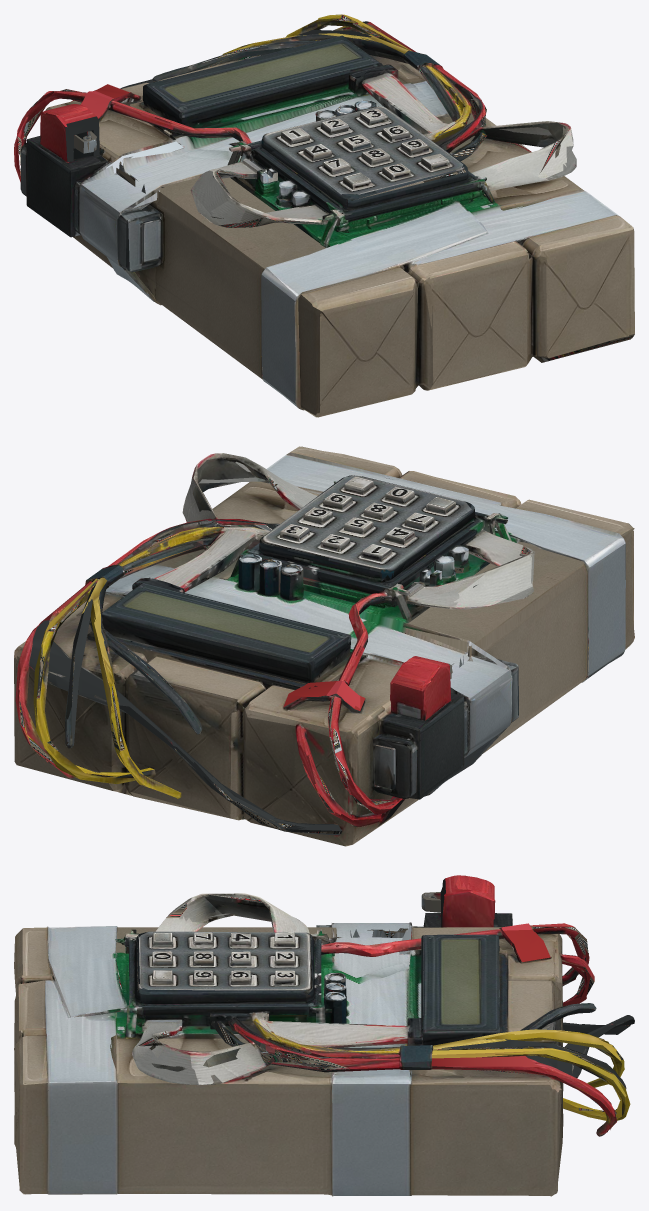
Rendered from cs2_bomb_game-prop.glb.
3 renders of one model, top to bottom at view 1: azimuth 30°, elevation 25°; view 2: azimuth 150°, elevation 25°; view 3: azimuth 270°, elevation 25°, orthographic. The views are drawn at different scales.
Parts seen in each view (by area): view 1: node_0_Material.002_0; view 2: node_0_Material.002_0; view 3: node_0_Material.002_0.
Part boxes in pixels (x1=…): node_0_Material.002_0: x1=14, y1=14, x2=634, y2=417; node_0_Material.002_0: x1=14, y1=446, x2=634, y2=846; node_0_Material.002_0: x1=14, y1=875, x2=634, y2=1196.
Bounding box in the file's own units: 0.7073 × 0.2953 × 1.01.
Materials: 1 (1 with a texture image).
